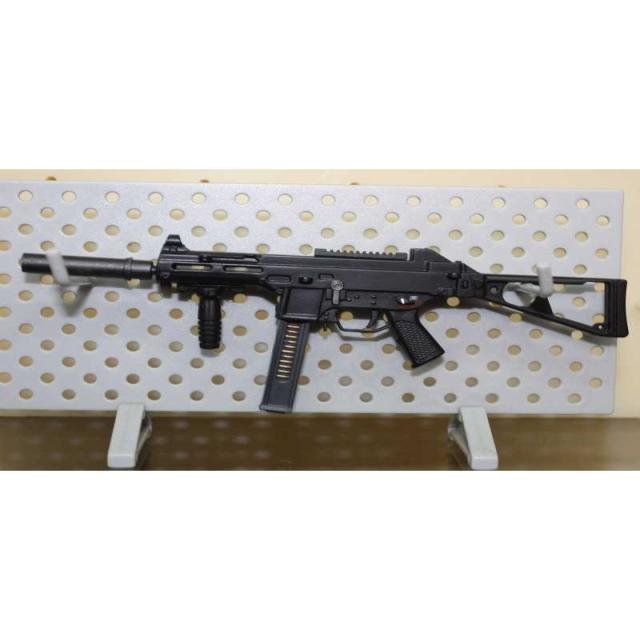SMG: (49, 235, 630, 414)
